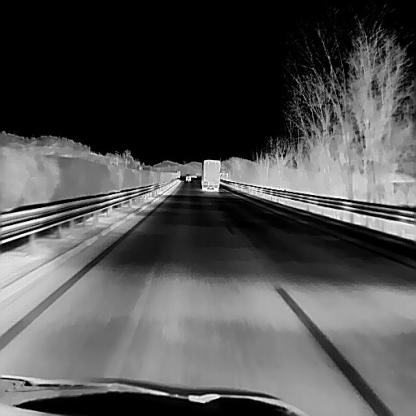car: (184, 172, 190, 180)
truck: (201, 158, 220, 192)
